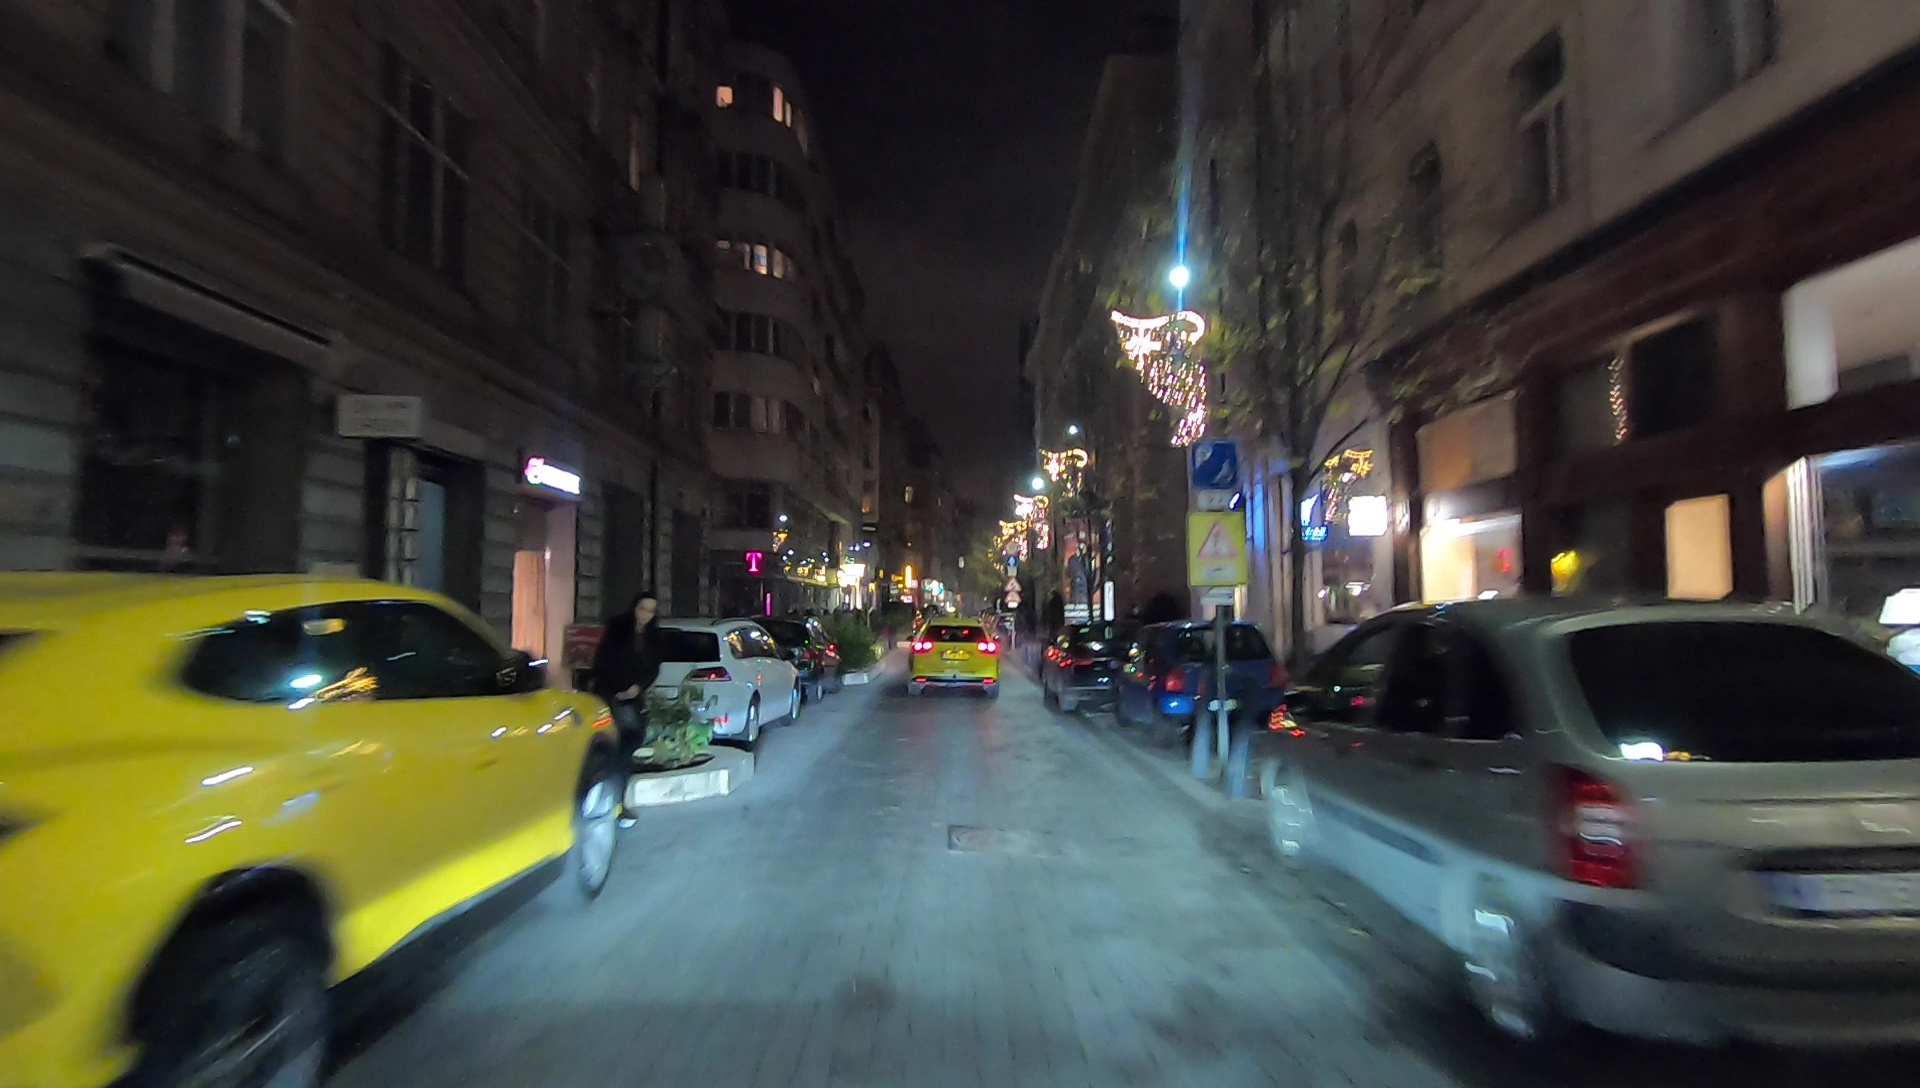person: (595, 593, 664, 836)
